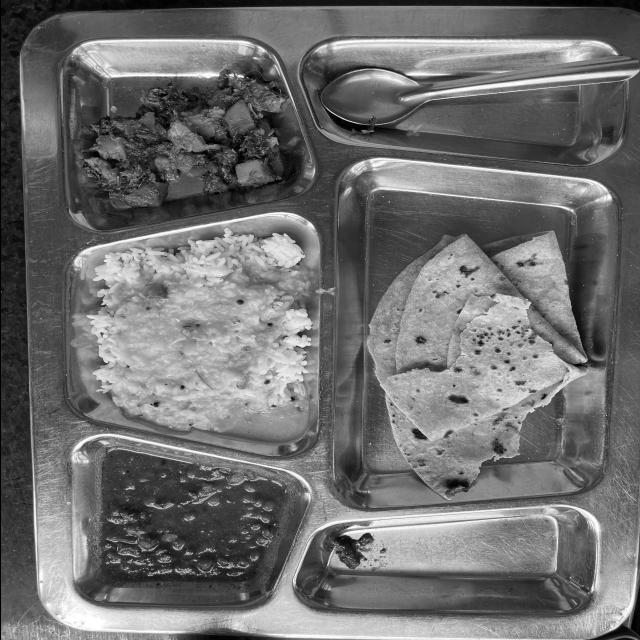100.9- Food Left: (52, 25, 640, 616)
